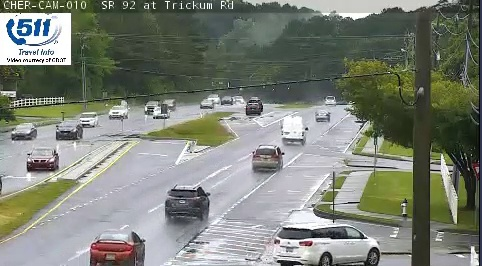car: (91, 232, 144, 266), (165, 186, 209, 216), (251, 146, 282, 169), (316, 110, 331, 122)
van: (282, 116, 305, 143)
